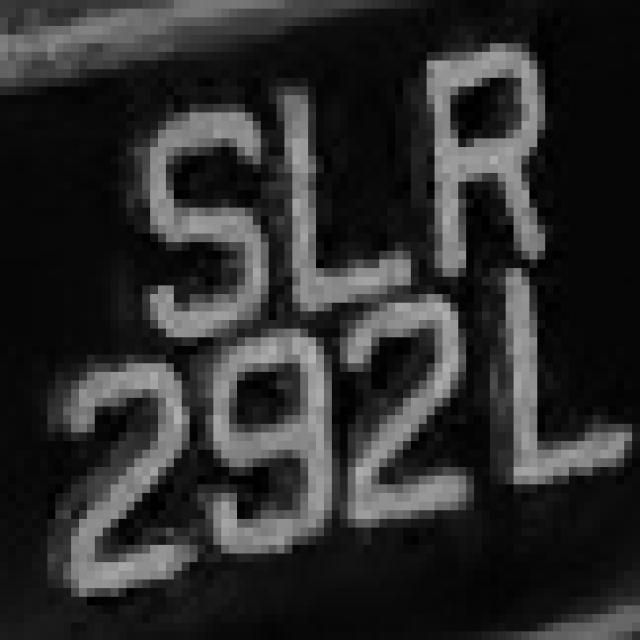2: (324, 276, 490, 554), (39, 364, 206, 606)
9: (198, 337, 348, 588)
L: (253, 52, 411, 329), (482, 277, 632, 484)
R: (403, 44, 561, 286)
S: (118, 78, 276, 346)
